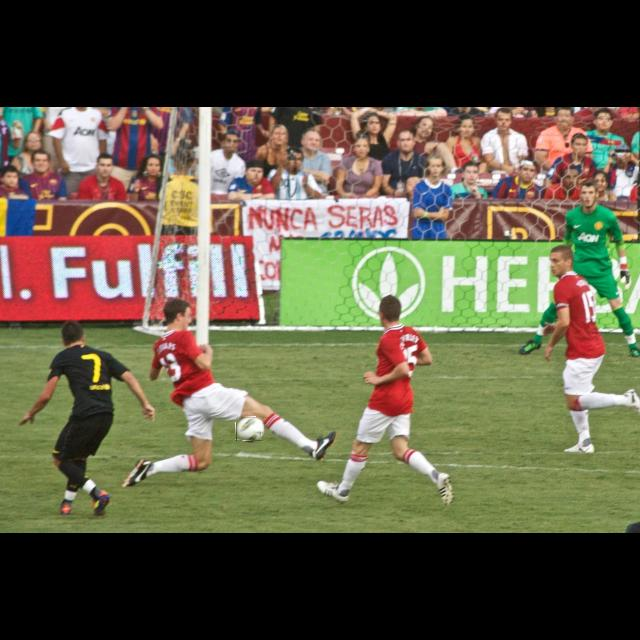Football: (236, 417, 262, 441)
